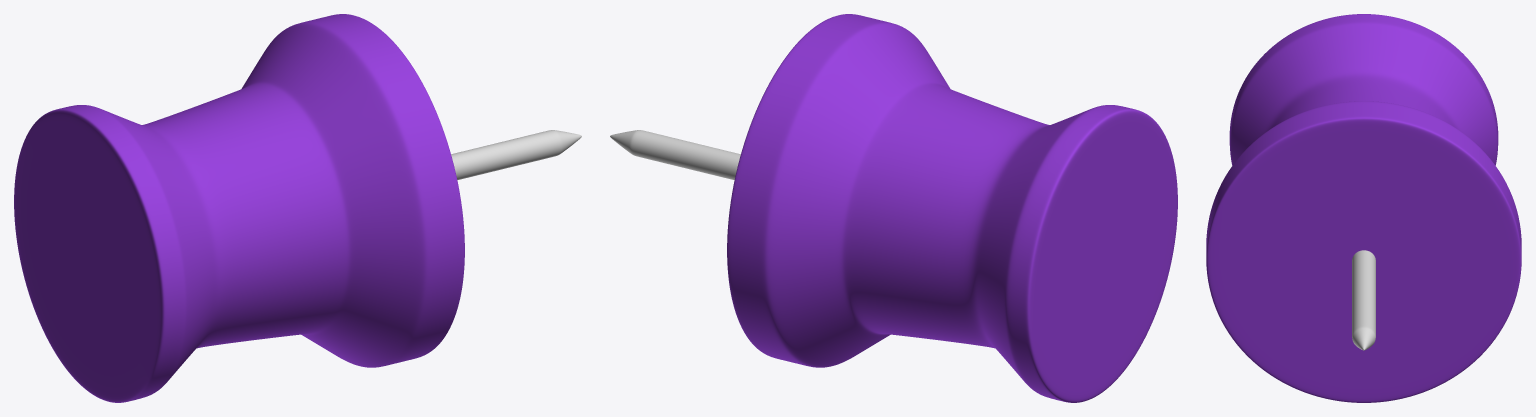
File: pin.fbx
3 renders of one model, left to right at view 1: azimuth 30°, elevation 25°; view 2: azimuth 150°, elevation 25°; view 3: azimuth 270°, elevation 25°, orthographic. The views are drawn at different scales.
Visible parts, largest first — view 1: Circle.013; view 2: Circle.013; view 3: Circle.013.
Part boxes in pixels (left/top/right/bottom): Circle.013: left=14, top=14, right=581, bottom=402; Circle.013: left=610, top=14, right=1177, bottom=402; Circle.013: left=1206, top=14, right=1521, bottom=402.
Size of the model in its own units: 207 by 128 by 128.
